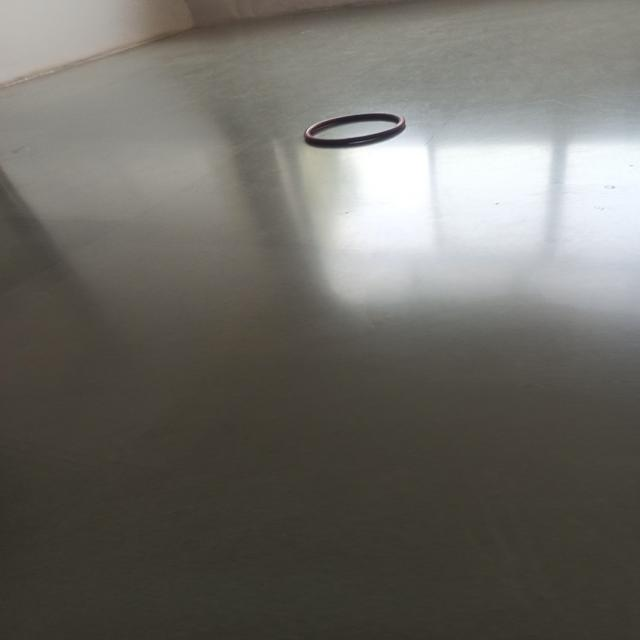daire: (304, 112, 405, 147)
